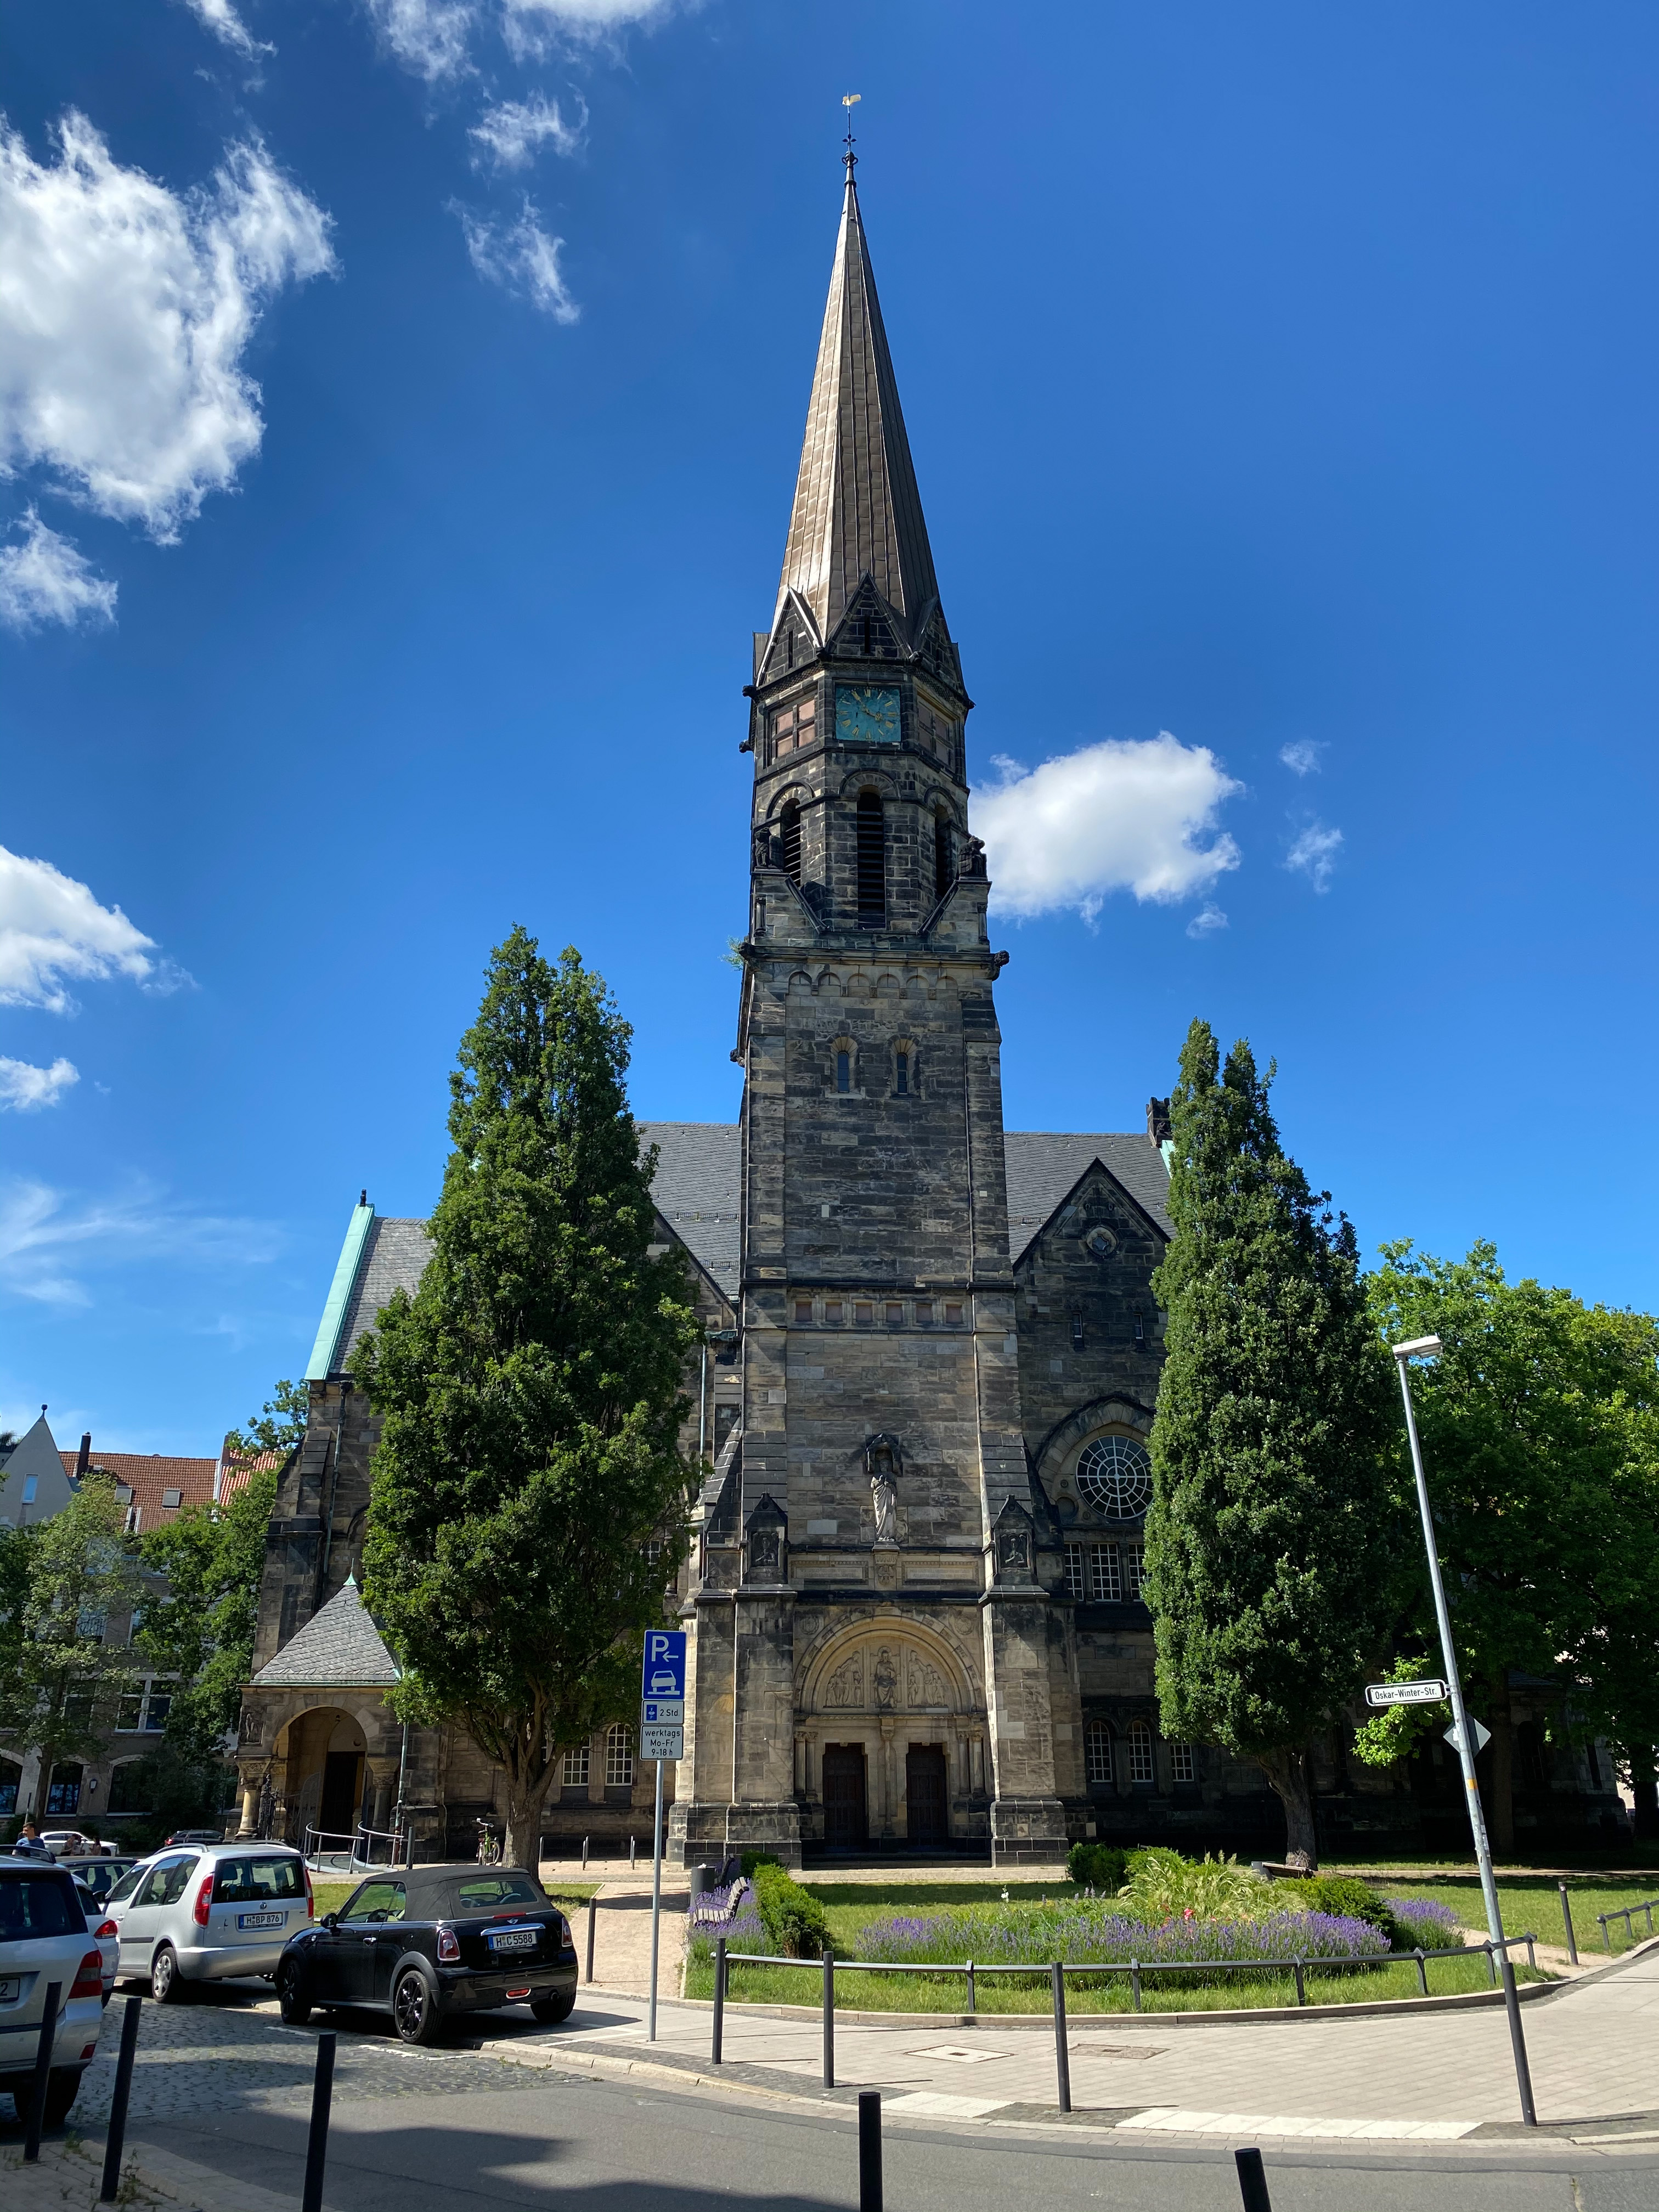tree: (342, 920, 714, 1895), (1138, 1014, 1419, 1872), (1361, 1235, 1659, 1855), (131, 1378, 310, 1773), (2, 1470, 134, 1825), (1579, 1602, 1659, 1841)
